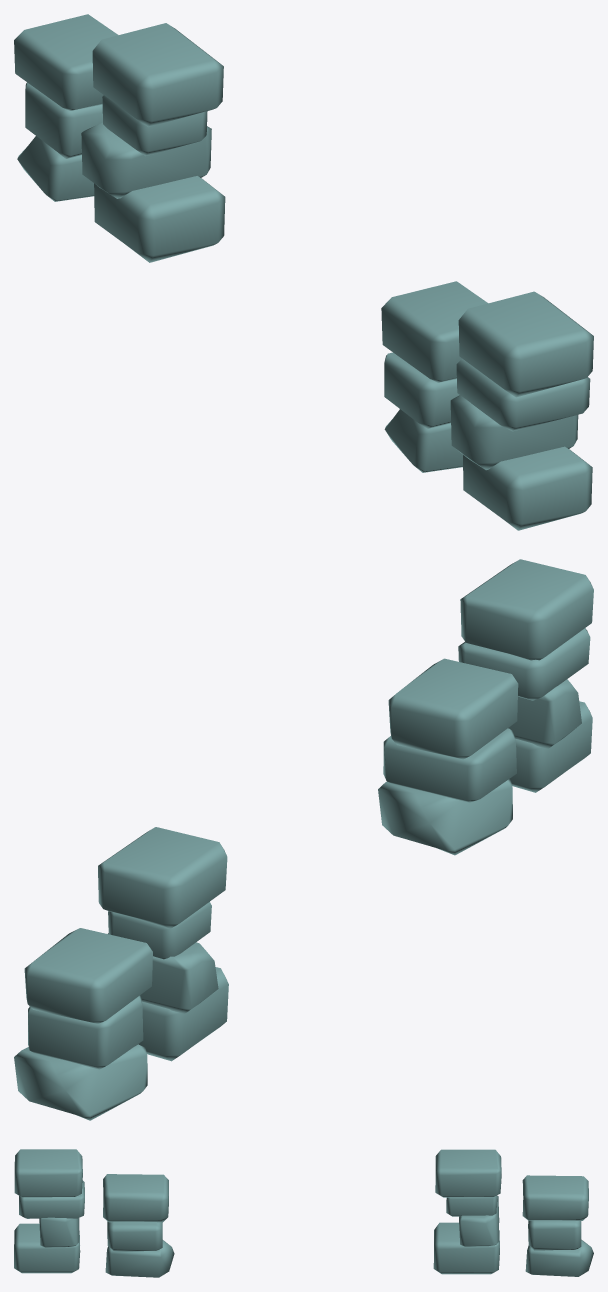
The model's file is Shelf_Grp_03C_Lod0.fbx.
3 renders of one model, top to bottom at view 1: azimuth 30°, elevation 25°; view 2: azimuth 150°, elevation 25°; view 3: azimuth 270°, elevation 25°, orthographic. The views are drawn at different scales.
Parts seen in each view (by area): view 1: Shelf_Grp_03C_Lod0; view 2: Shelf_Grp_03C_Lod0; view 3: Shelf_Grp_03C_Lod0.
Boxes of the visible parts, left/top/right/bottom form: Shelf_Grp_03C_Lod0: left=14, top=14, right=593, bottom=530; Shelf_Grp_03C_Lod0: left=14, top=559, right=593, bottom=1120; Shelf_Grp_03C_Lod0: left=14, top=1149, right=593, bottom=1277.
Size of the model in its own units: 33.58 by 58.15 by 280.
